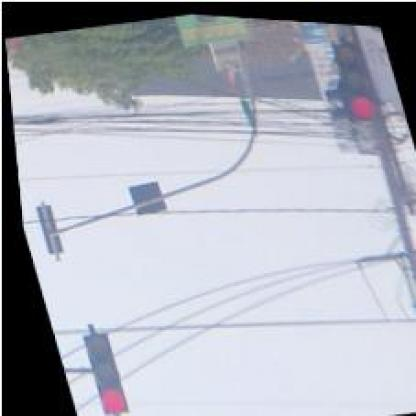red: (326, 32, 378, 122), (70, 325, 121, 415)
